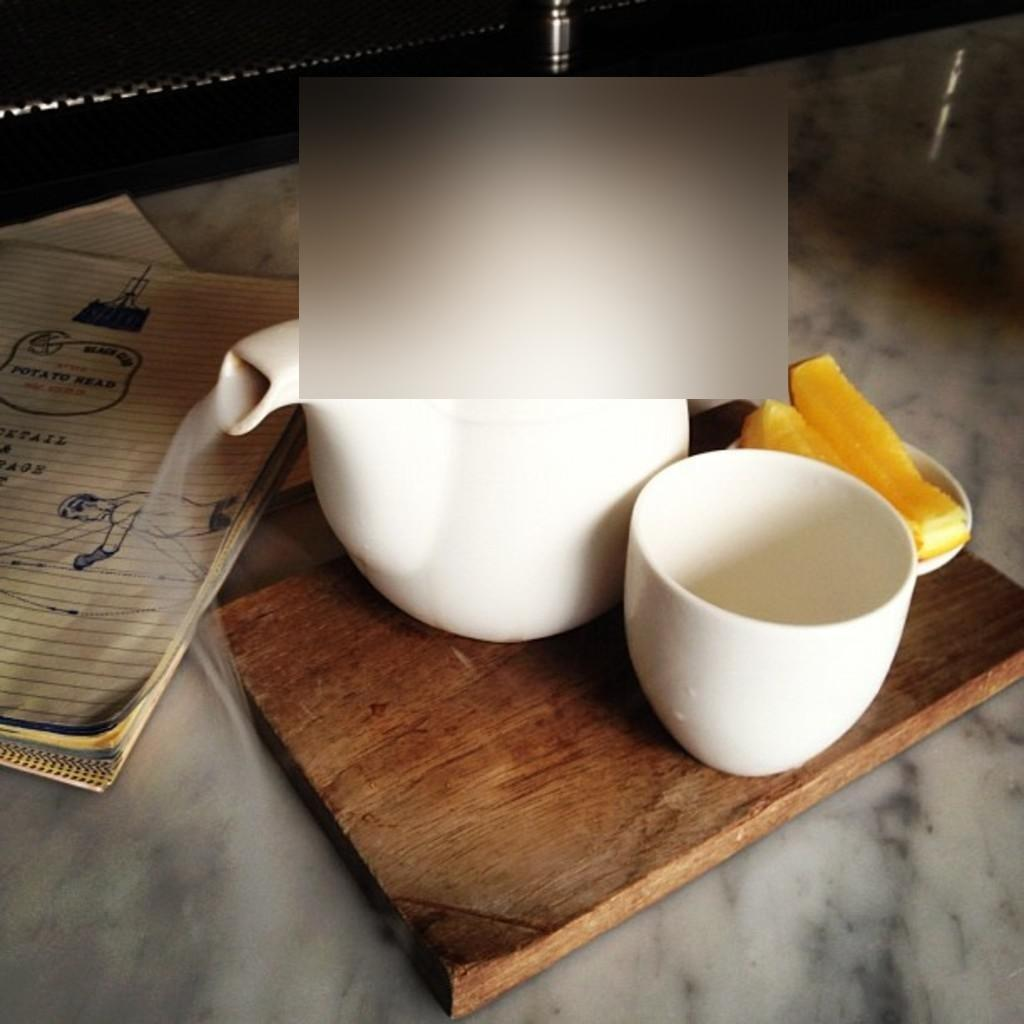cup-handle: (621, 450, 915, 778)
